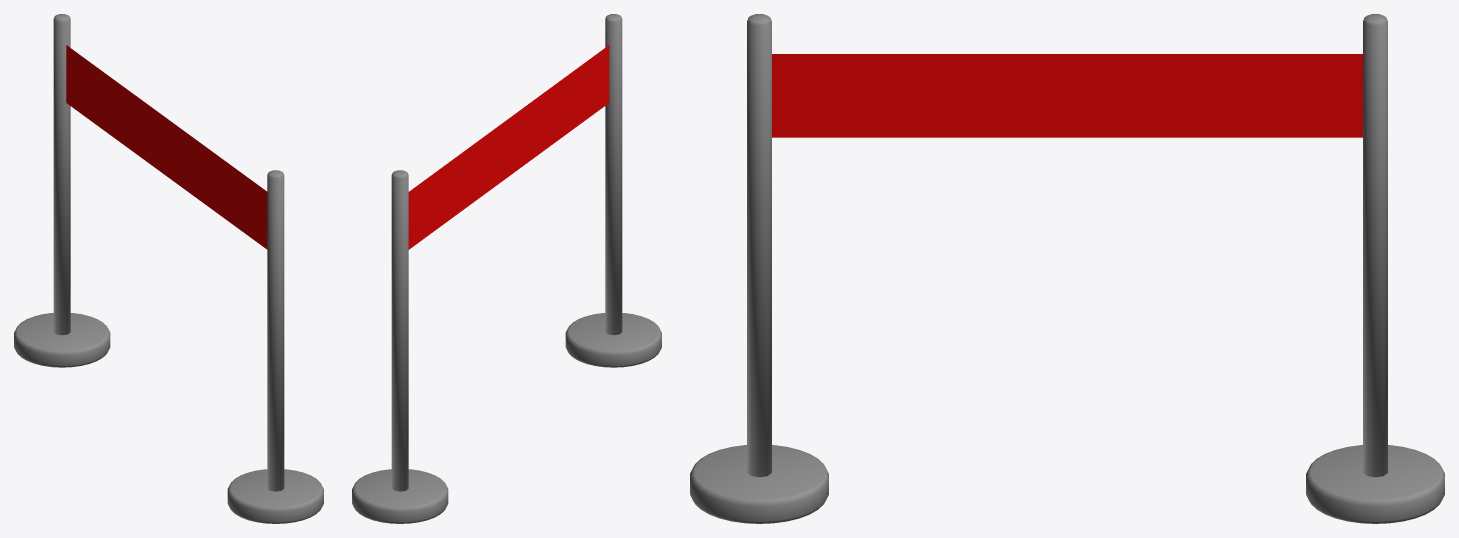
The model's file is pinch-barrier-red.gltf.
3 views of the same model, side by side, from view 1: azimuth 30°, elevation 25°; view 2: azimuth 150°, elevation 25°; view 3: azimuth 270°, elevation 25° (orthographic). The views are drawn at different scales.
Visible parts, largest first — view 1: Box2, pipe003 (×2), bottom004 (×2); view 2: Box2, pipe003 (×2), bottom004 (×2); view 3: Box2, pipe003 (×2), bottom004 (×2).
Boxes of the visible parts, x1=… form: Box2: x1=66, y1=45, x2=267, y2=249; pipe003 (×2): x1=53, y1=14, x2=284, y2=491; bottom004 (×2): x1=14, y1=313, x2=323, y2=523; Box2: x1=408, y1=45, x2=609, y2=249; pipe003 (×2): x1=391, y1=14, x2=622, y2=491; bottom004 (×2): x1=352, y1=313, x2=661, y2=523; Box2: x1=772, y1=54, x2=1362, y2=137; pipe003 (×2): x1=747, y1=14, x2=1387, y2=477; bottom004 (×2): x1=690, y1=445, x2=1444, y2=523.
Size of what is drawn, in the model's own units: 0.2267 by 0.8582 by 1.23.
